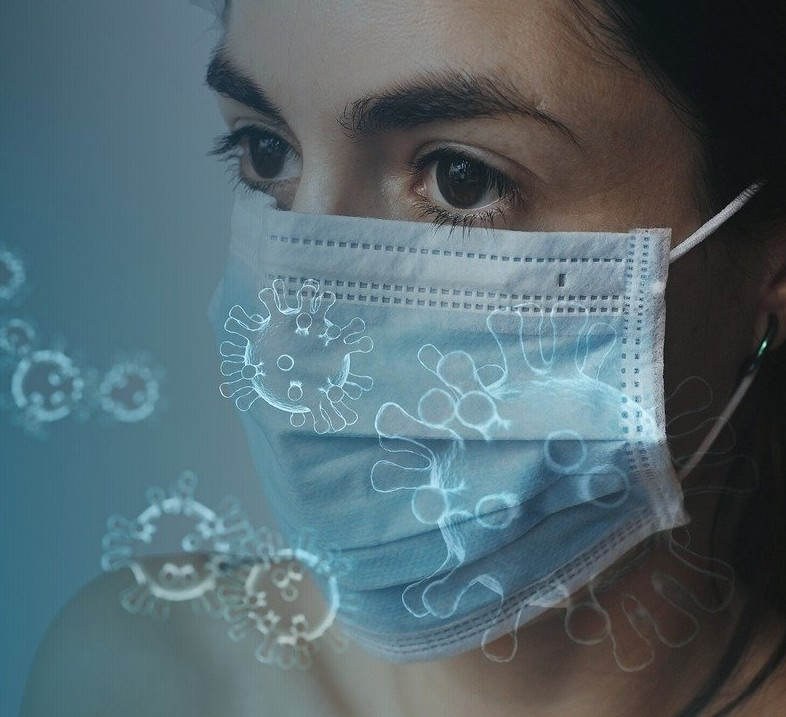with_mask: (200, 6, 734, 625)
